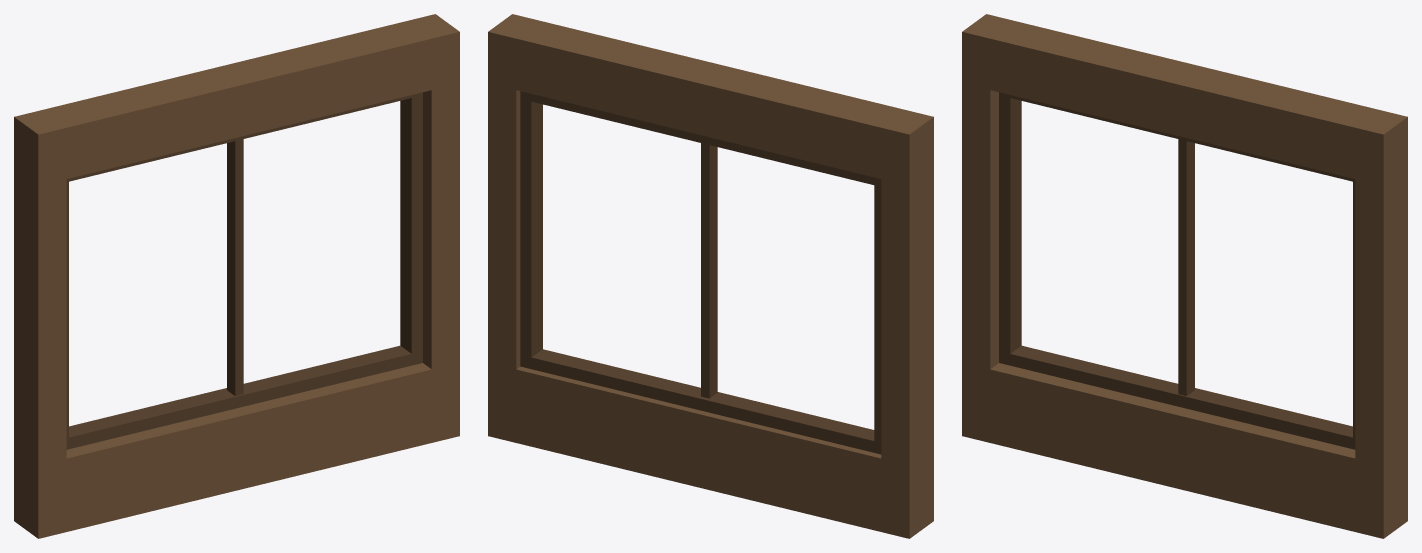
Rendered from Kit_wood_shopwindow.fbx.
The picture shows the model from 3 angles, left to right: view 1: azimuth 30°, elevation 25°; view 2: azimuth 150°, elevation 25°; view 3: azimuth 330°, elevation 25°; orthographic projection.
Visible parts, largest first — view 1: WallBelow, WallAbove, WallJambL, WallJambR, FrameBottom, FrameR, Mullion, FrameTop, FrameL; view 2: WallBelow, WallAbove, WallJambL, WallJambR, FrameBottom, FrameR, Mullion, FrameTop, FrameL; view 3: WallBelow, WallAbove, WallJambR, WallJambL, FrameBottom, FrameL, Mullion, FrameTop, FrameR.
Part boxes in pixels (bbox=[...]): WallBelow: bbox=[66, 363, 431, 531]; WallAbove: bbox=[42, 21, 431, 178]; WallJambL: bbox=[14, 110, 66, 538]; WallJambR: bbox=[408, 14, 459, 442]; FrameBottom: bbox=[66, 345, 422, 449]; FrameR: bbox=[400, 94, 422, 365]; Mullion: bbox=[227, 139, 243, 395]; FrameTop: bbox=[67, 92, 422, 181]; FrameL: bbox=[66, 179, 68, 441]; WallBelow: bbox=[516, 366, 881, 531]; WallAbove: bbox=[516, 21, 905, 178]; WallJambL: bbox=[881, 110, 933, 538]; WallJambR: bbox=[488, 14, 539, 442]; FrameBottom: bbox=[520, 349, 881, 452]; FrameR: bbox=[520, 91, 542, 368]; Mullion: bbox=[701, 143, 717, 398]; FrameTop: bbox=[527, 93, 881, 186]; FrameL: bbox=[874, 177, 881, 454]; WallBelow: bbox=[990, 363, 1355, 531]; WallAbove: bbox=[990, 21, 1379, 178]; WallJambR: bbox=[1355, 110, 1407, 538]; WallJambL: bbox=[962, 14, 1013, 442]; FrameBottom: bbox=[999, 345, 1355, 449]; FrameL: bbox=[999, 93, 1021, 364]; Mullion: bbox=[1178, 139, 1194, 395]; FrameTop: bbox=[999, 92, 1355, 181]; FrameR: bbox=[1353, 180, 1355, 439].
Bounding box in the file's own units: 300 × 30 × 275.
